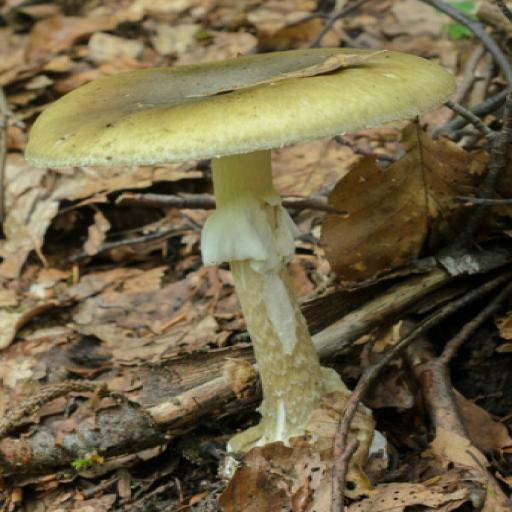mushroom: (0, 0, 458, 473)
